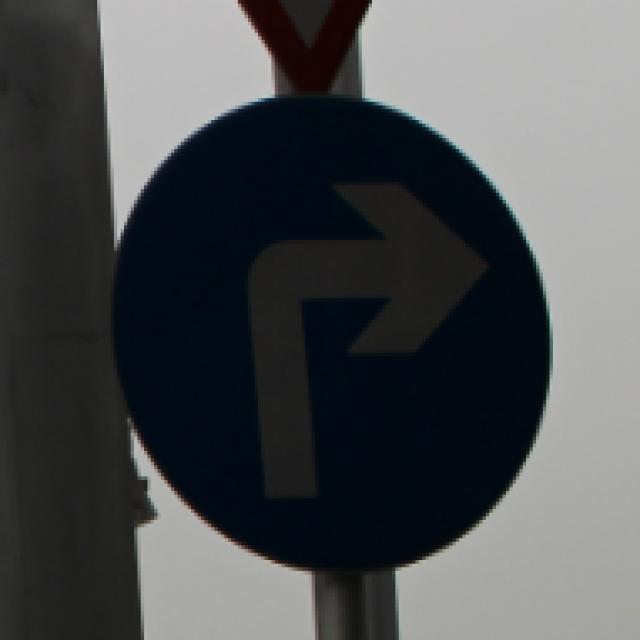right: (119, 94, 540, 560)
